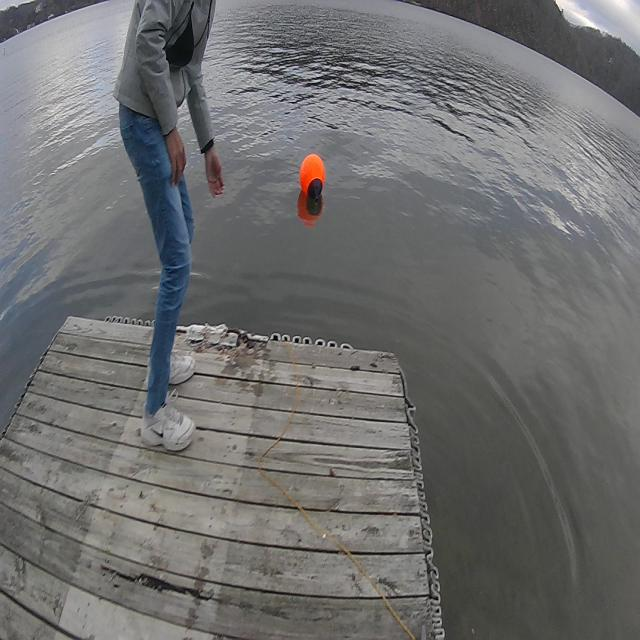Buoy: (298, 153, 326, 203)
